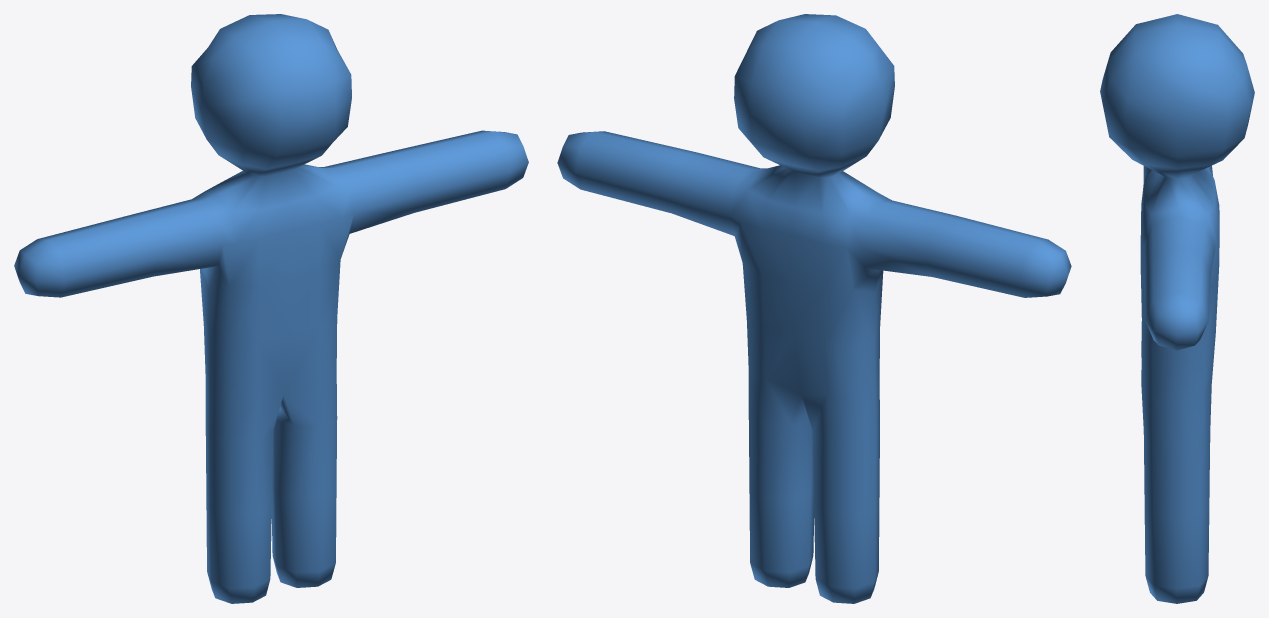
The model's file is StickMan 04.fbx.
3 renders of one model, left to right at view 1: azimuth 30°, elevation 25°; view 2: azimuth 150°, elevation 25°; view 3: azimuth 270°, elevation 25°, orthographic.
Visible parts, largest first — view 1: Character; view 2: Character; view 3: Character.
Boxes of the visible parts, <box> form: Character: <box>14,14,528,603</box>; Character: <box>557,14,1071,603</box>; Character: <box>1100,14,1254,603</box>.
Bounding box in the file's own units: 104 × 112 × 28.
